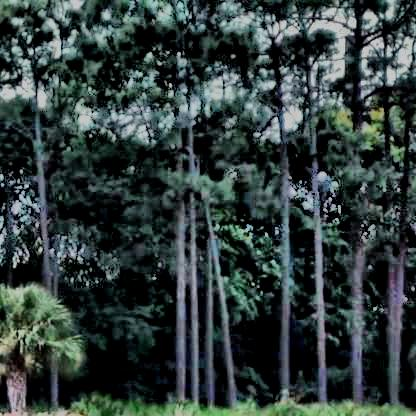golfball: (314, 169, 323, 178)
